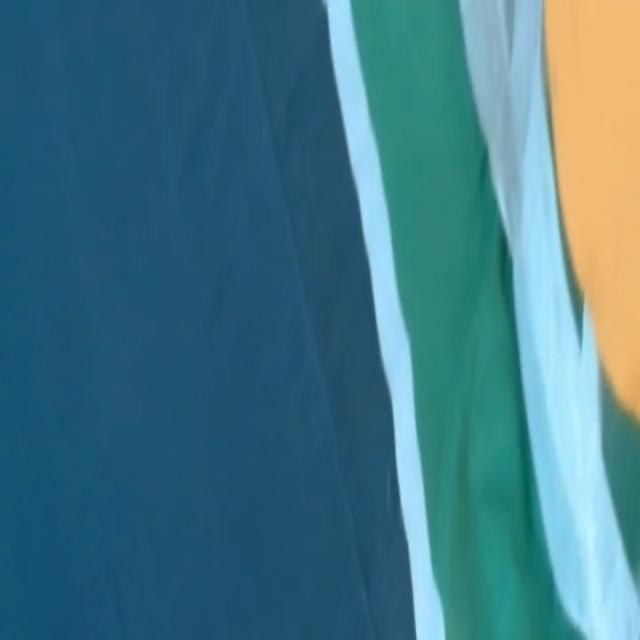right: (325, 0, 444, 639)
